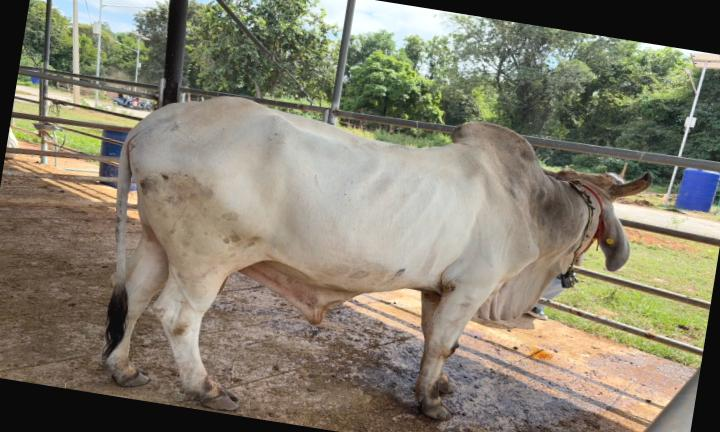Brahman: (101, 96, 651, 419)
